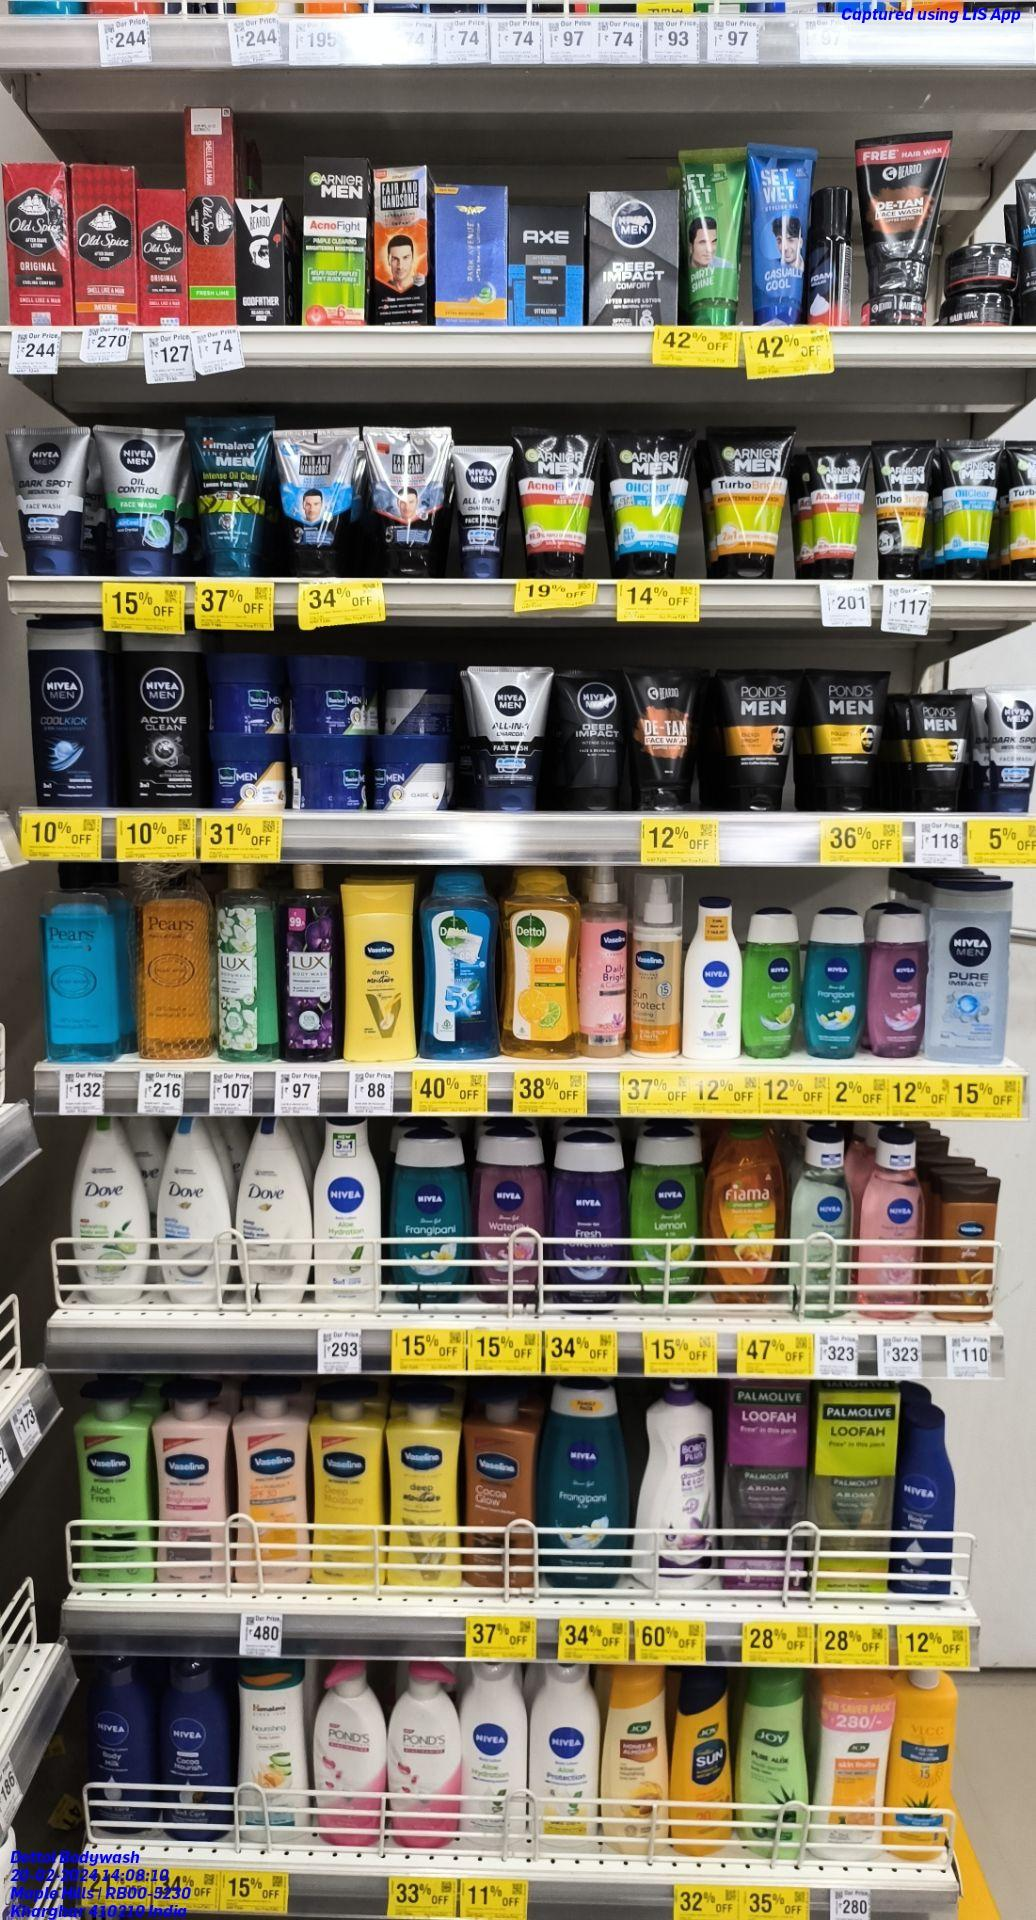Dettol_Bodywash_Cool: (420, 865, 501, 1059)
Dettol_Bodywash_Refresh: (505, 860, 579, 1056)
Dove_Deep_Moisture_Body_Wash_250ML: (237, 1114, 311, 1306)
Dove_Gentle_Exfoliating_Body_Wash_250ML: (154, 1115, 231, 1308)
Dove_Refreshing_Body_Wash_250ML: (68, 1114, 151, 1305)
Fiama_Shower_Gel_Peach_and_Avocado_250ML: (711, 1120, 786, 1303)
Lux_Black_Orchid_Scent_and_Juniper_Oil_Body_Wash_245ML: (282, 861, 339, 1061)
Lux_Body_Wash_Skin_Detox_Freesia_Scent_and_Alove_Vera_245ML: (216, 860, 276, 1063)
Nivea_Shower_Gel_Frangipani_and_Oil_250ML: (542, 1378, 629, 1590), (389, 1130, 471, 1304), (803, 903, 865, 1058)
Nivea_Shower_Gel_Fresh_Powerfruit_250ML: (550, 1128, 626, 1315)
Nivea_Shower_Gel_Lemon_and_Oil_250ML: (630, 1126, 706, 1308), (743, 903, 800, 1063)
Nivea_Shower_Gel_Waterlily_and_Oil_250ML: (475, 1128, 546, 1306), (869, 901, 922, 1058)
Pears_Pure_Glycerin_and_Mint_Extracts_Body_Wash_250ML: (40, 861, 117, 1067)
